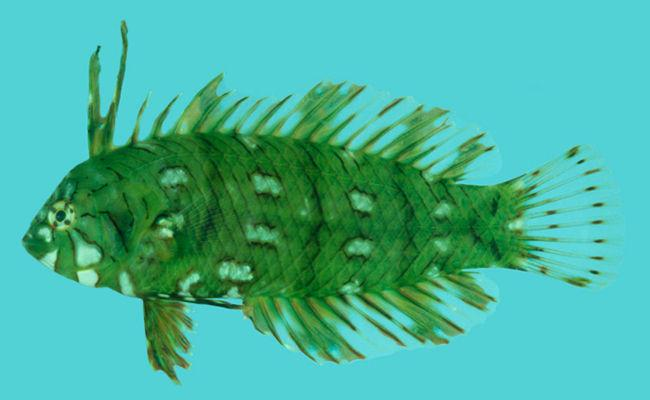fish: (21, 20, 620, 387)
